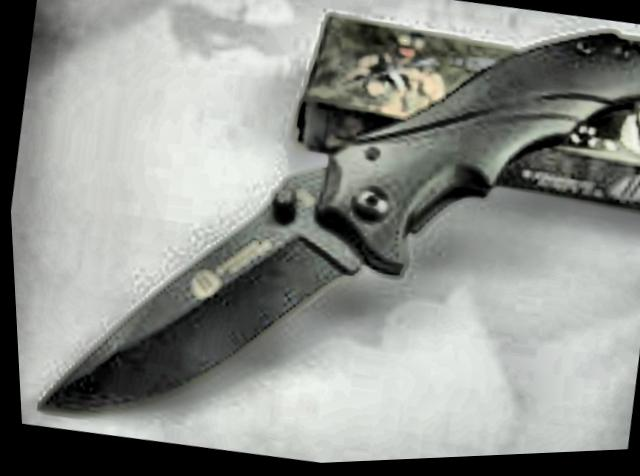knife: (9, 124, 393, 470)
